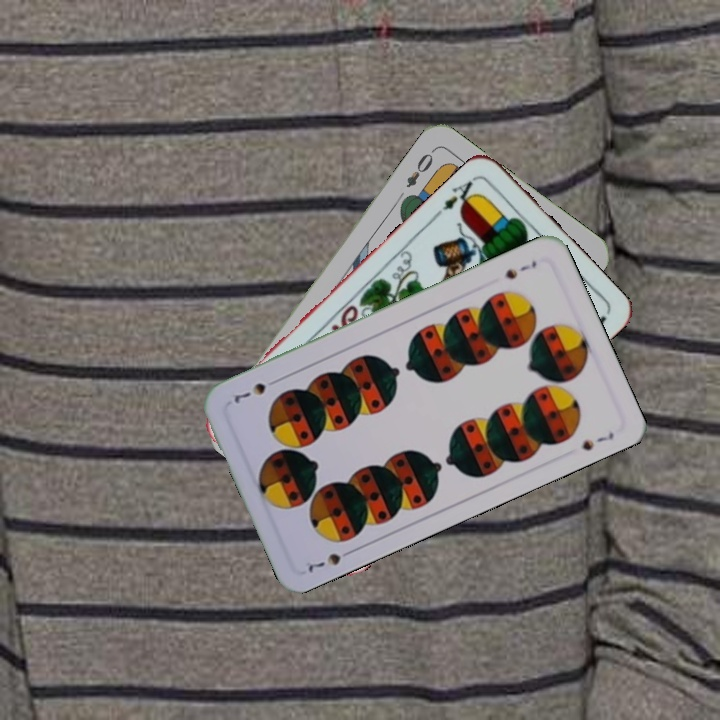EA: (432, 173, 481, 219)
EO: (402, 145, 438, 191)
S7: (304, 544, 357, 575), (500, 256, 539, 282)
